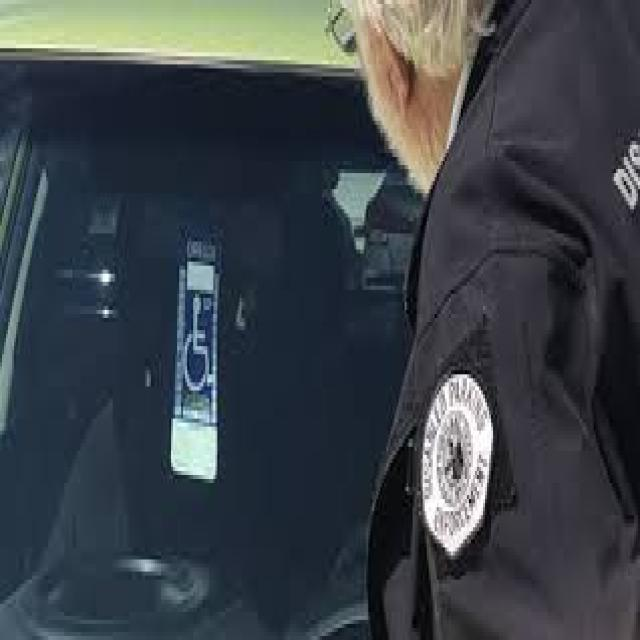symbol_of_access: (181, 294, 214, 394)
